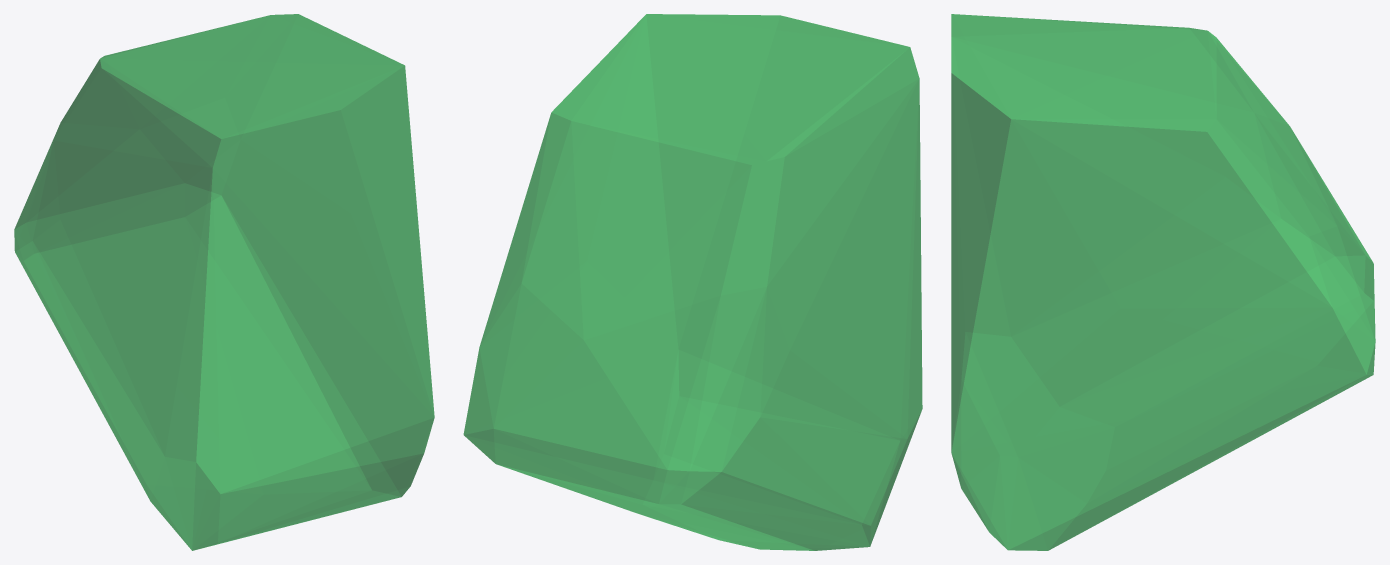
3 views of the same model, side by side, from view 1: azimuth 30°, elevation 25°; view 2: azimuth 150°, elevation 25°; view 3: azimuth 270°, elevation 25° (orthographic). The views are drawn at different scales.
Parts seen in each view (by area): view 1: Shape_IndexedFaceSet.001_Shape_IndexedFaceSet.18092; view 2: Shape_IndexedFaceSet.001_Shape_IndexedFaceSet.18092; view 3: Shape_IndexedFaceSet.001_Shape_IndexedFaceSet.18092.
Part boxes in pixels (<box>): Shape_IndexedFaceSet.001_Shape_IndexedFaceSet.18092: <box>14,14,434,550</box>; Shape_IndexedFaceSet.001_Shape_IndexedFaceSet.18092: <box>463,14,922,550</box>; Shape_IndexedFaceSet.001_Shape_IndexedFaceSet.18092: <box>951,14,1375,550</box>.
Size of the model in its own units: 0.1485 by 0.2581 by 0.2247.
